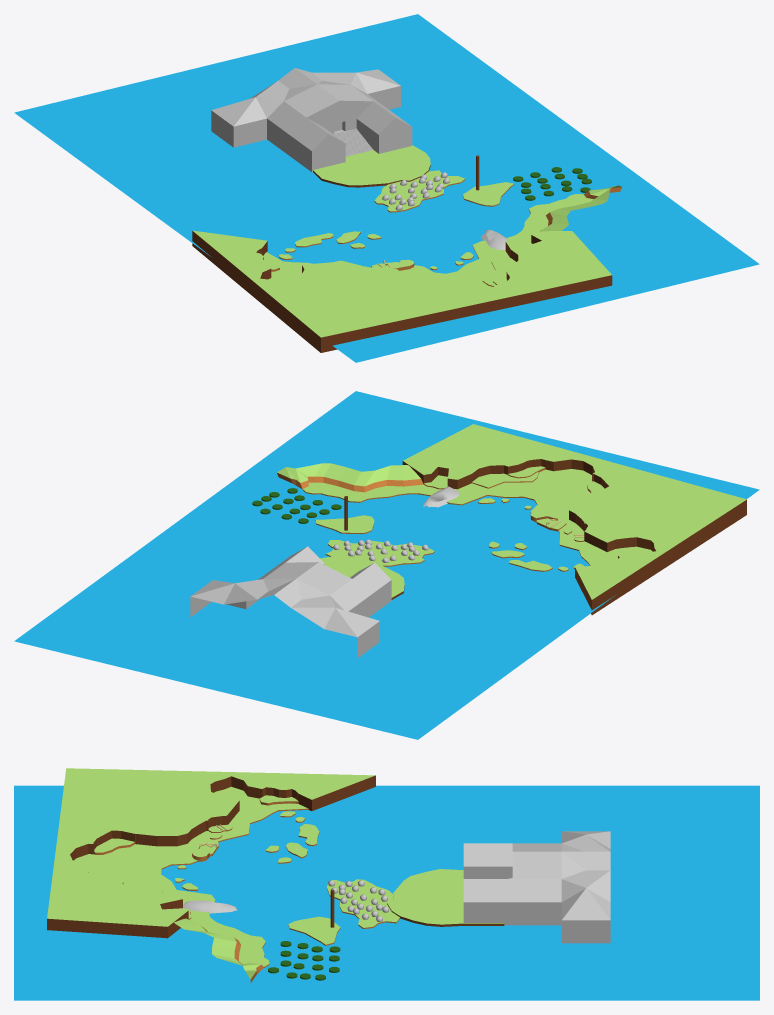
The model's file is volumetria_nivel2.FBX.
3 views of the same model, one above another, from view 1: azimuth 30°, elevation 25°; view 2: azimuth 150°, elevation 25°; view 3: azimuth 270°, elevation 25° (orthographic). The views are drawn at different scales.
Visible parts, largest first — view 1: GL_Agua, muro_bosque, H2_Biblioteca, H1_Altura1_1, P3_Altura1_1, C1_Altura1_002, C1_MuroBosque_1, P2_Altura1_1, P1_Altura1_1; view 2: GL_Agua, muro_bosque, H2_Biblioteca, H1_Altura1_1, C1_MuroBosque_1, C1_Altura1_002, P3_Altura1_1, P1_Altura1_1, P2_Altura1_1; view 3: GL_Agua, muro_bosque, H2_Biblioteca, H1_Altura1_1, P3_Altura1_1, P1_Altura1_1, C1_Altura1_002, C1_MuroBosque_1, P2_Altura1_1, C1_Piedra1_1, C1_Altura1_1, Alt_3.
Part boxes in pixels (x1,y1,x2,y2): GL_Agua: (14,14,759,362); muro_bosque: (192,230,612,352); H2_Biblioteca: (211,68,430,187); H1_Altura1_1: (400,240,509,297); P3_Altura1_1: (374,170,465,212); C1_Altura1_002: (505,194,593,250); C1_MuroBosque_1: (540,185,622,231); P2_Altura1_1: (462,182,514,206); P1_Altura1_1: (263,252,345,281); GL_Agua: (14,391,759,739); muro_bosque: (402,424,746,615); H2_Biblioteca: (190,546,404,657); H1_Altura1_1: (446,469,591,519); C1_MuroBosque_1: (276,463,423,492); C1_Altura1_002: (302,482,456,502); P3_Altura1_1: (325,540,434,566); P1_Altura1_1: (559,540,652,565); P2_Altura1_1: (315,515,374,533); GL_Agua: (14,785,759,1000); muro_bosque: (47,768,375,938); H2_Biblioteca: (387,831,610,943); H1_Altura1_1: (74,844,215,904); P3_Altura1_1: (326,879,399,928); P1_Altura1_1: (214,786,308,833); C1_Altura1_002: (189,910,269,967); C1_MuroBosque_1: (174,918,264,982); P2_Altura1_1: (288,916,340,945); C1_Piedra1_1: (183,900,237,913); C1_Altura1_1: (187,830,248,848); Alt_3: (94,838,134,854).
Bounding box in the file's own units: 612 × 68.83 × 873.
